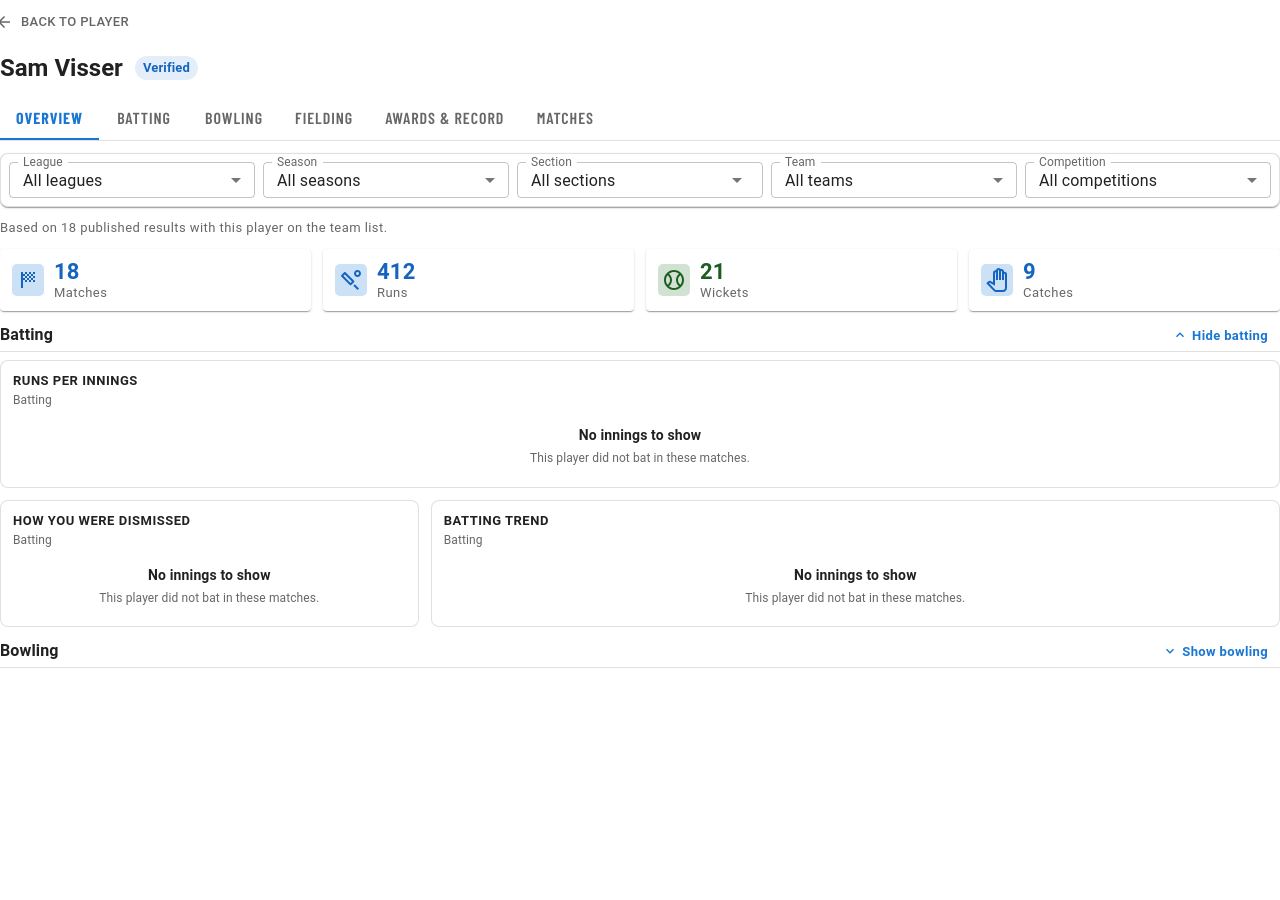
Test: Player Overview tab › failure and empty states › a card without data shows its own message while the others still render
Expected: the element with test id "runs-per-innings-empty" is shown, [530,427,750,465]
Expected: the element with test id "dismissals-empty" is shown, [99,567,319,605]
Click the button with test id "dashboard-group-bowling-toggle".
click(1215, 651)  # box [1150,635,1279,667]
(page scrolled)
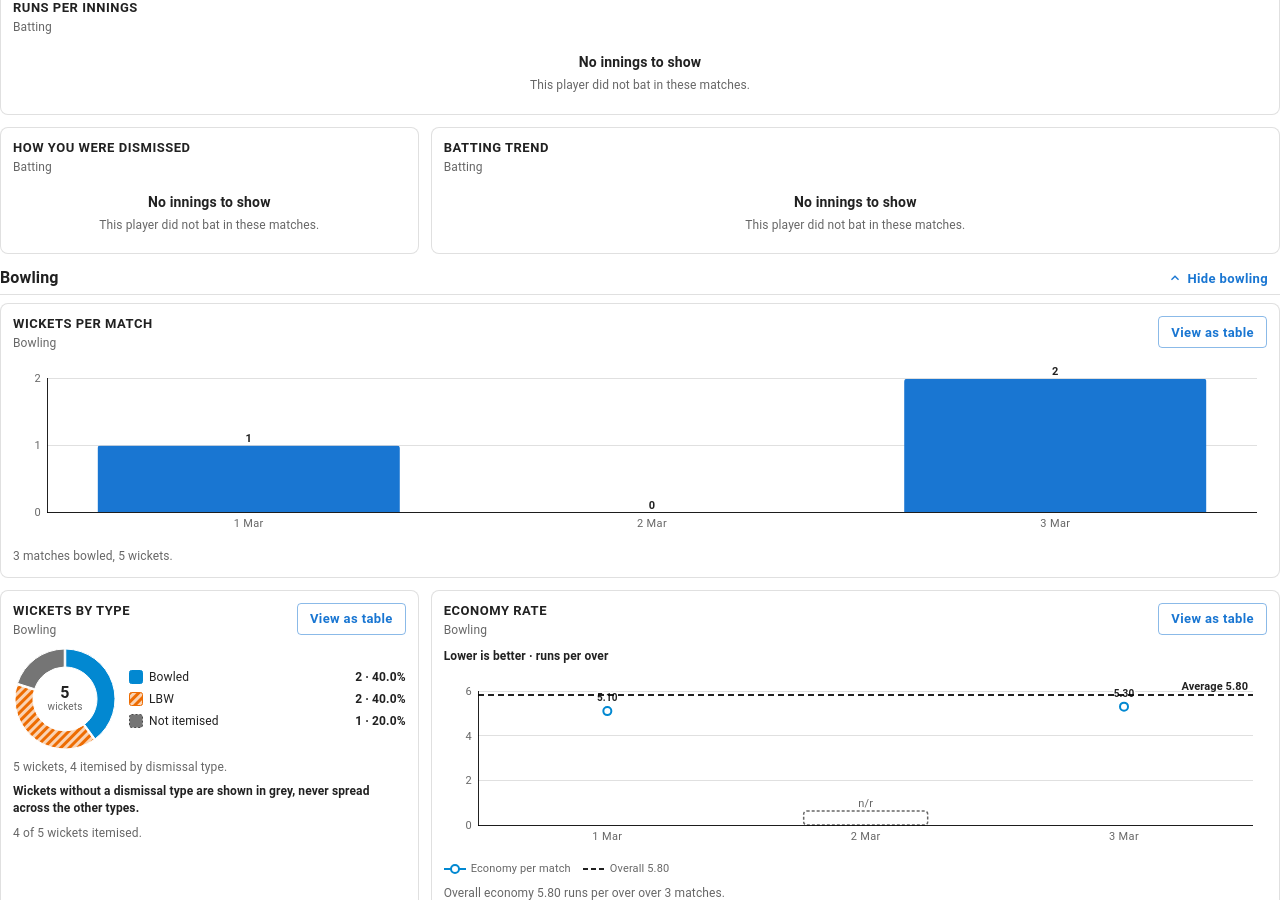
Expected: the picture with test id "wickets-per-match-chart" is shown, [13,360,1267,540]
